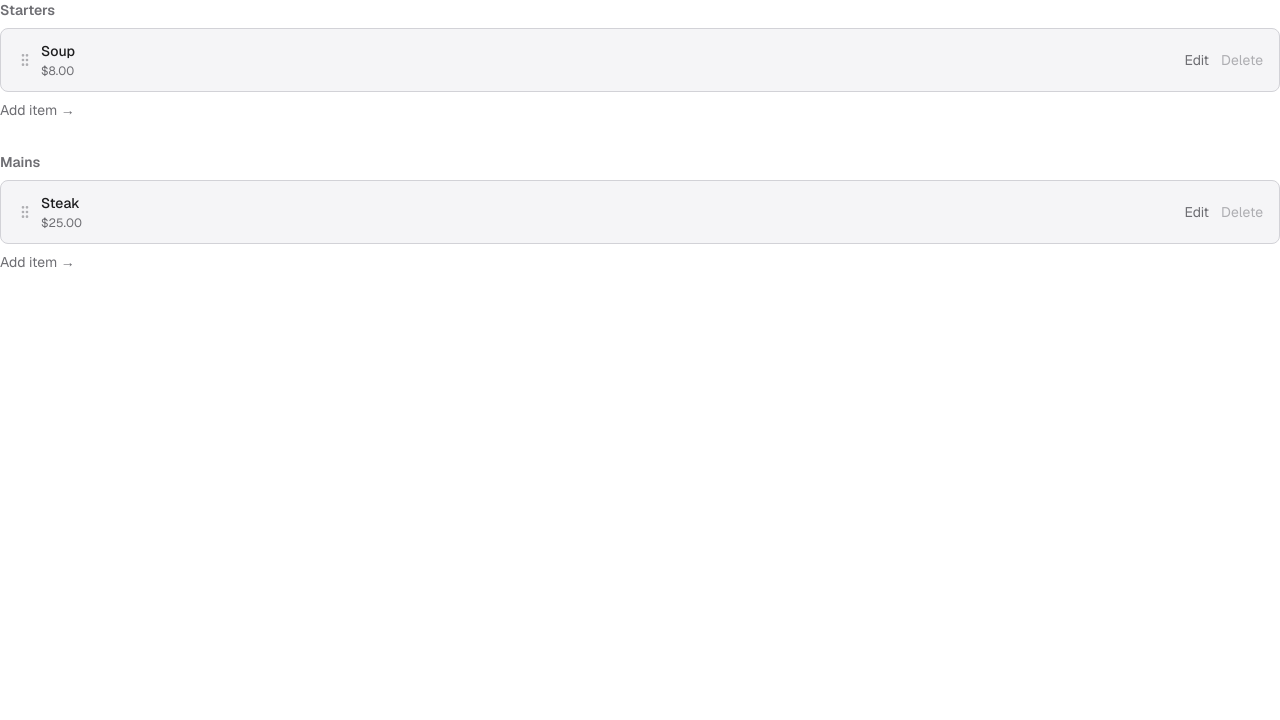
Scenario: MenuItemList › opens delete dialog when delete button is clicked
Step 1. Click the button with aria-label "Delete Soup" → [1242, 60], box [1221,50,1263,70]
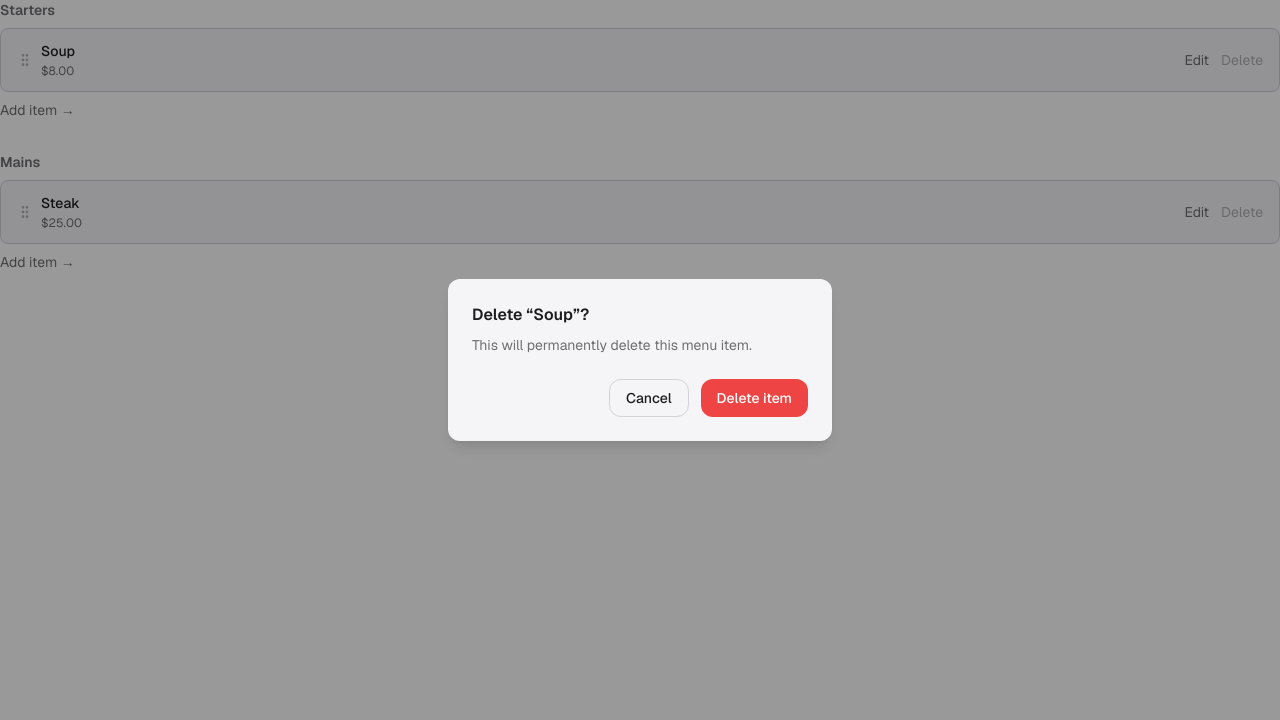
Check: the dialog is shown
Check: the heading "Delete “Soup”?" is shown, box [472,304,589,325]
